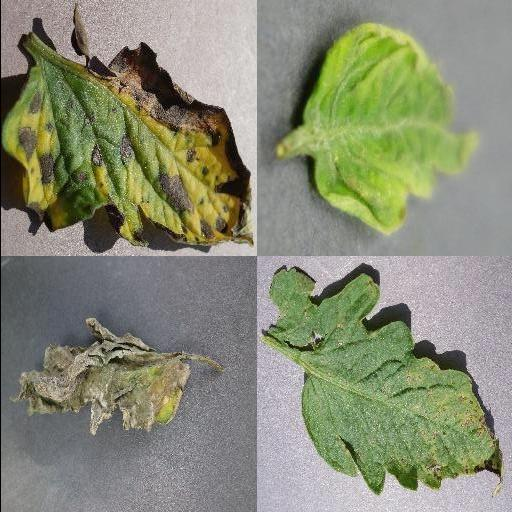Early Blight: (0, 40, 255, 247)
Late Blight: (10, 318, 192, 432)
Septoria: (270, 260, 504, 496)
Yellow Leaf Curl Virus: (302, 23, 478, 235)
